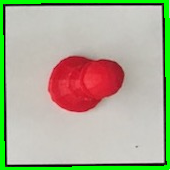Red Pawn: (44, 50, 125, 115)
